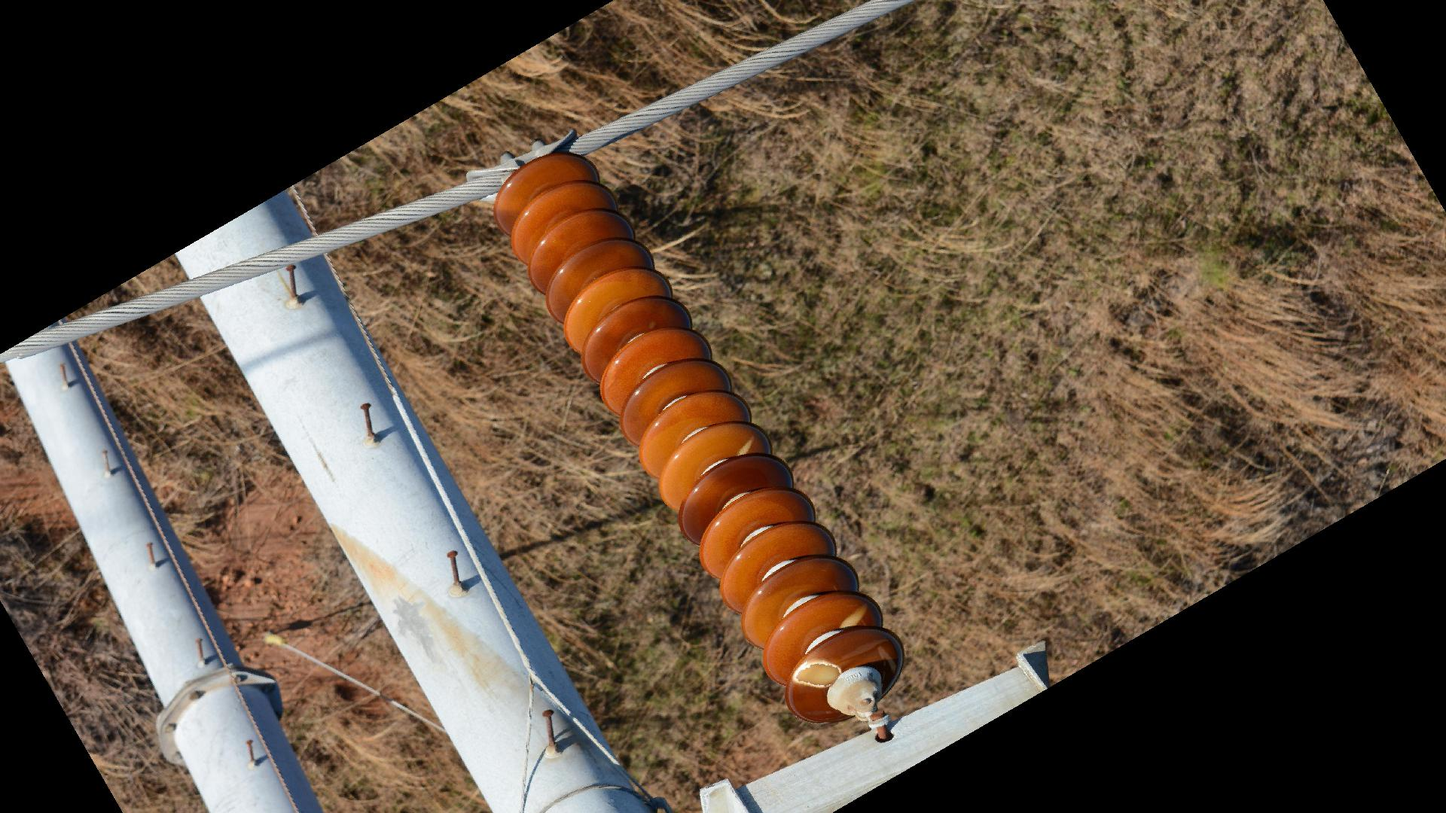insulator: (486, 144, 907, 732)
insulator_flashover: (792, 659, 842, 691), (836, 601, 871, 632), (733, 434, 758, 461)
